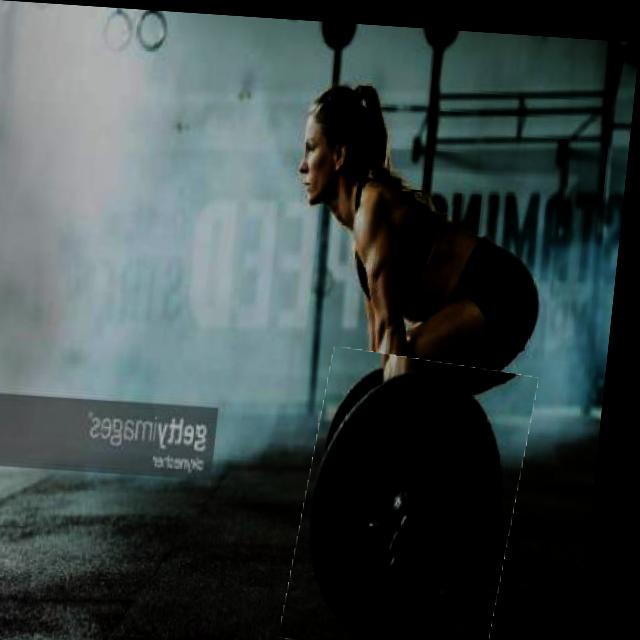barbell: (299, 346, 542, 640)
